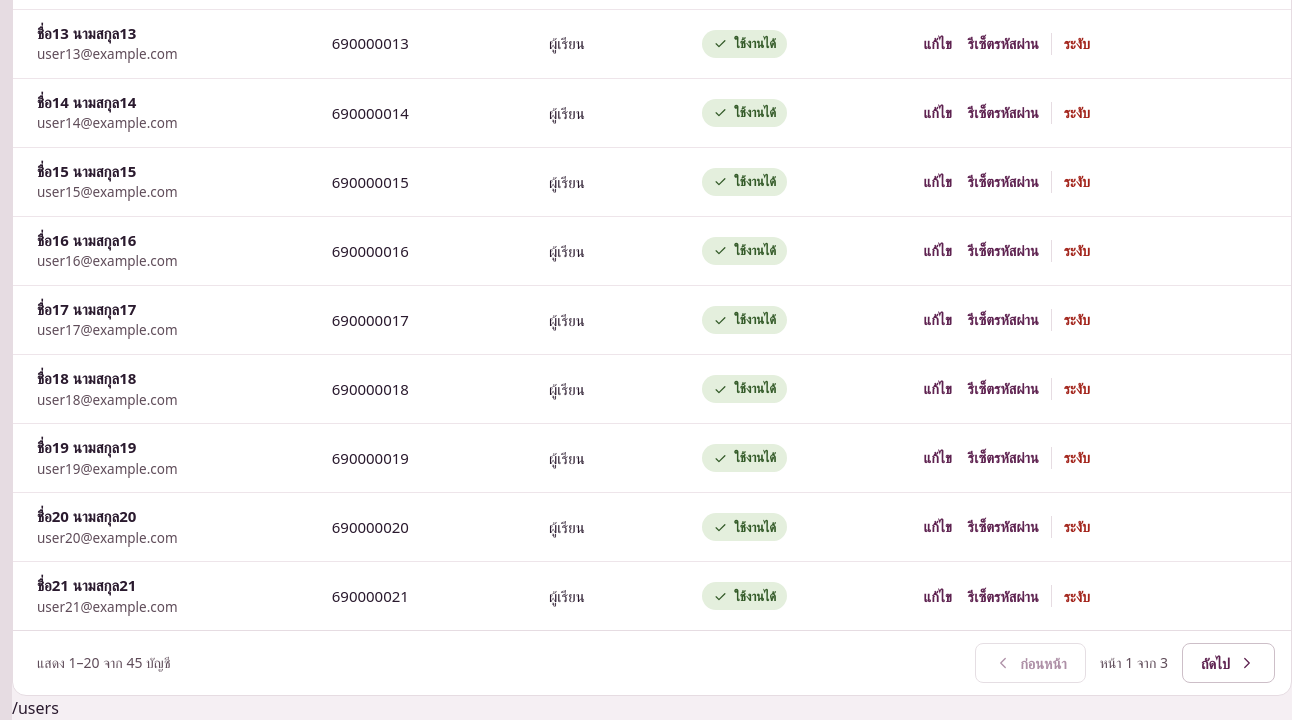
Test: UsersPage — แบ่งหน้า › 45 บัญชี → 3 หน้า ; กดถัดไปขอหน้า 2 และข้อความสรุปเปลี่ยนตาม
(page scrolled)
Expected: the navigation bar named "แบ่งหน้า" shows "แสดง 1–20 จาก 45 บัญชี", [37,653,170,672]
Expected: the navigation bar named "แบ่งหน้า" shows "หน้า 1 จาก 3", [1100,653,1168,672]
Click the button "ถัดไป".
click(1228, 664)  # box [1182,644,1275,684]
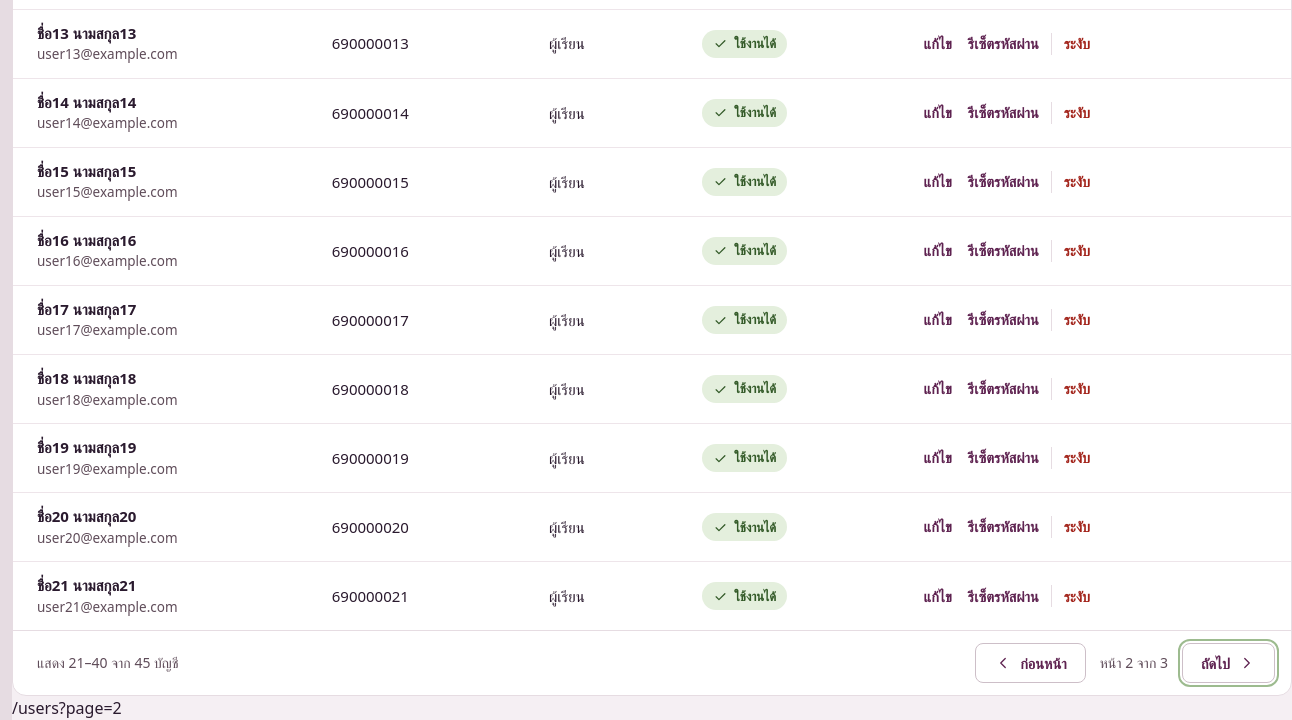
Result: the text with test id "location" reads "/users?page=2" at [12,698,122,719]
Result: the text "แสดง 21–40 จาก 45 บัญชี" is shown at [37,652,178,675]
